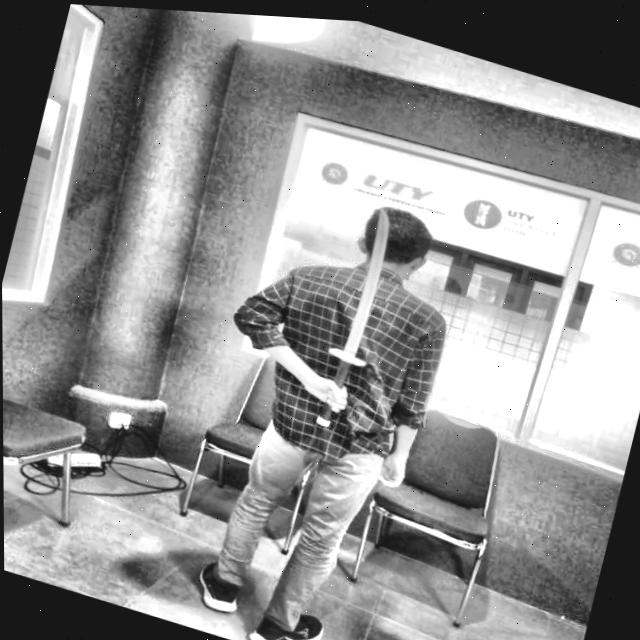pisau: (296, 192, 409, 451)
